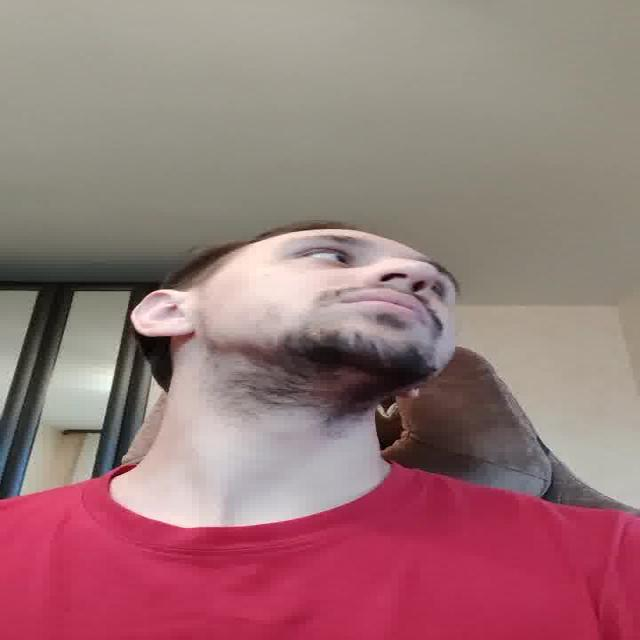earlobe: (130, 289, 195, 338)
